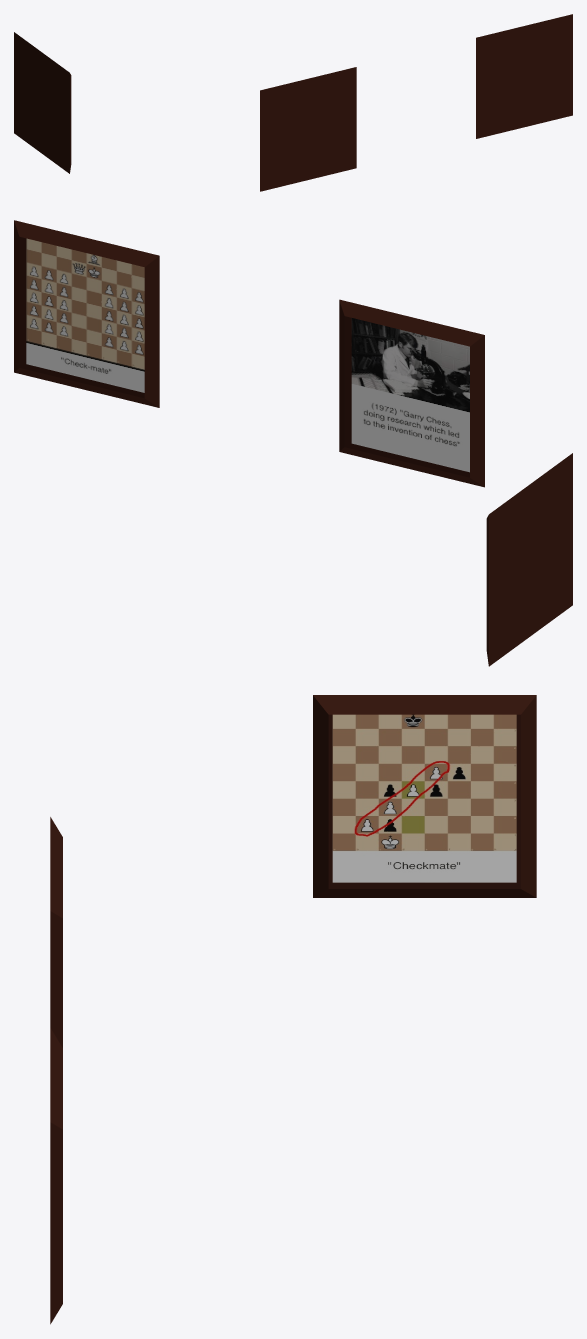
The model's file is paintings.obj.
3 views of the same model, one above another, from view 1: azimuth 30°, elevation 25°; view 2: azimuth 150°, elevation 25°; view 3: azimuth 270°, elevation 25° (orthographic). The views are drawn at different scales.
Parts seen in each view (by area): view 1: Plane, Plane.001, Plane.002; view 2: eoxh96hcs0fa1.004, eoxh96hcs0fa1.002, Plane.002, Plane.001, Plane; view 3: eoxh96hcs0fa1.001, Plane.002, Plane.001, Plane.
Boxes of the visible parts, x1,y1,x2,y2 form: Plane: (260, 67, 356, 191); Plane.001: (476, 14, 572, 138); Plane.002: (14, 32, 71, 173); eoxh96hcs0fa1.004: (26, 238, 144, 392); eoxh96hcs0fa1.002: (351, 318, 469, 472); Plane.002: (486, 453, 572, 666); Plane.001: (14, 220, 159, 407); Plane: (339, 299, 484, 487); eoxh96hcs0fa1.001: (332, 714, 516, 882); Plane.002: (313, 695, 536, 897); Plane.001: (50, 1028, 62, 1324); Plane: (50, 817, 62, 1047).
Size of the model in its own units: 8.02 by 1.78 by 3.86.
Materials: 4 (3 with a texture image).
